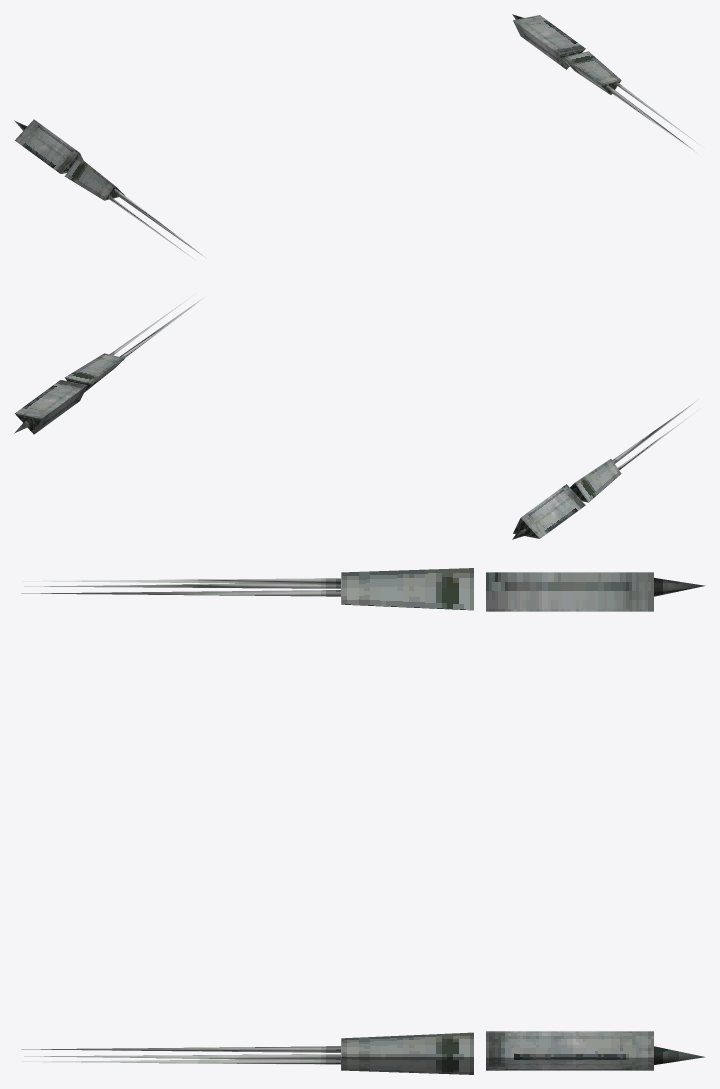
File: xwing_weapon1_pos_s04_l3.fbx
3 views of the same model, one above another, from view 1: azimuth 30°, elevation 25°; view 2: azimuth 150°, elevation 25°; view 3: azimuth 270°, elevation 25° (orthographic). The views are drawn at different scales.
Parts seen in each view (by area): view 1: mesh_node; view 2: mesh_node; view 3: mesh_node.
Part boxes in pixels (x1,y1,x2,y2): mesh_node: [14, 14, 702, 258]; mesh_node: [14, 295, 702, 539]; mesh_node: [21, 568, 705, 1074].
Size of the model in its own units: 14.48 by 0.9404 by 9.05.
Materials: 1 (1 with a texture image).
